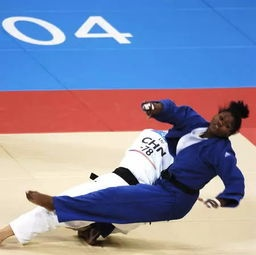falling: (4, 87, 246, 253)
